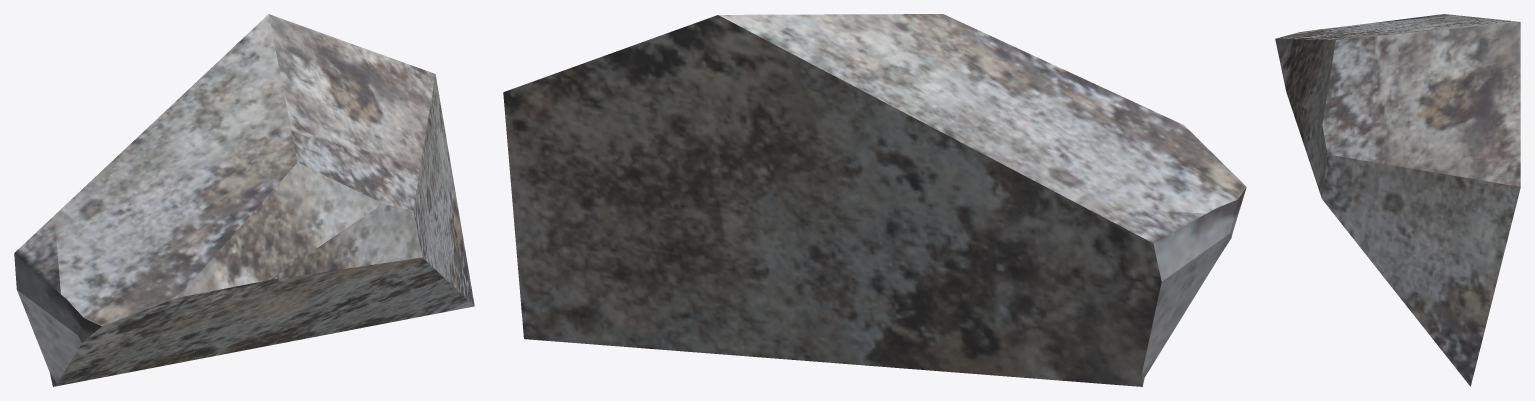
Rendered from Asteroid_Large_001_02_002_03_001.fbx.
The picture shows the model from 3 angles, left to right: view 1: azimuth 30°, elevation 25°; view 2: azimuth 150°, elevation 25°; view 3: azimuth 270°, elevation 25°; orthographic projection. The views are drawn at different scales.
Visible parts, largest first — view 1: Asteroid_Large_001_02_002_03_001; view 2: Asteroid_Large_001_02_002_03_001; view 3: Asteroid_Large_001_02_002_03_001.
Boxes of the visible parts, x1,y1,x2,y2 form: Asteroid_Large_001_02_002_03_001: (14,14,474,386); Asteroid_Large_001_02_002_03_001: (503,14,1246,386); Asteroid_Large_001_02_002_03_001: (1275,14,1520,386).
Size of the model in its own units: 9.56 by 6.05 by 4.71.
